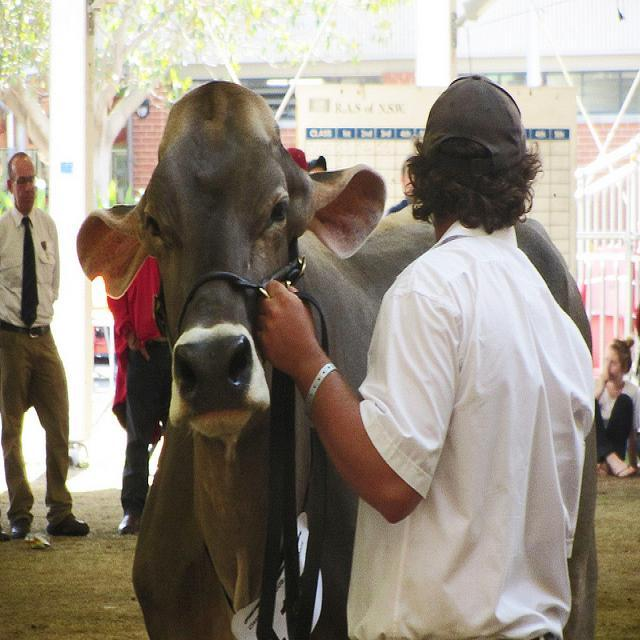cow: (75, 80, 597, 639)
